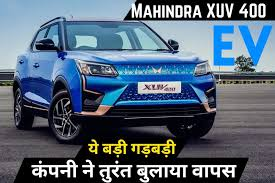XUV 400: (12, 16, 217, 144)
